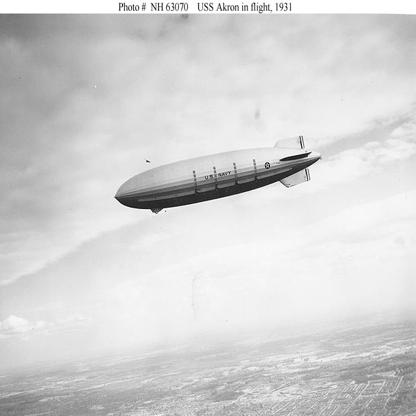Airship: (110, 135, 323, 218)
